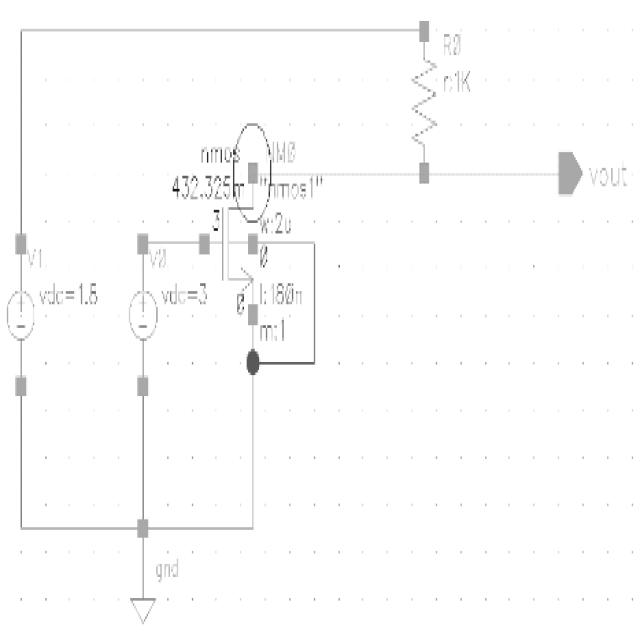nmos: (196, 140, 261, 322)
res: (401, 27, 440, 179)
vdc: (118, 257, 162, 399), (2, 237, 38, 402)
